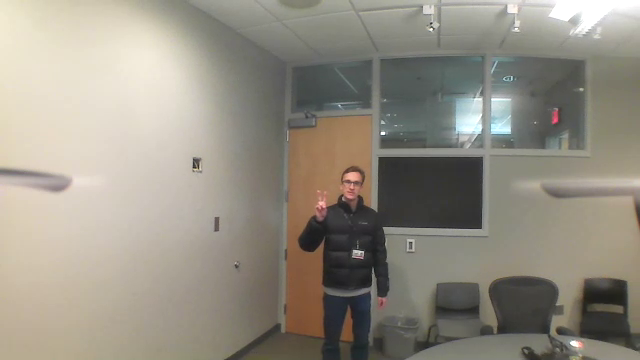peace: (311, 185, 333, 221)
